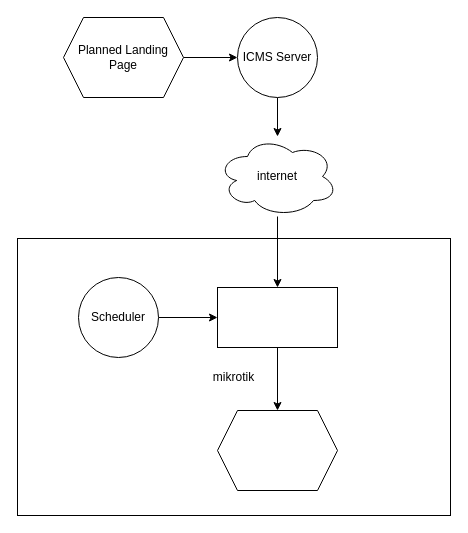
The diagram is 468 pixels wide and 533 high, and some of its shapes have lost their labels. Here are the shapes that lost their labels. From the top down, the centre of each, then its label:
At (277,317): "Fetcher".
At (277,450): "Stored LP".
